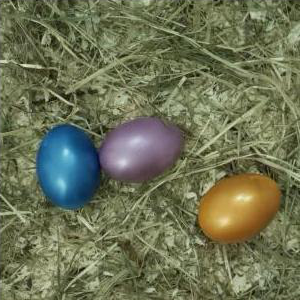egg: (198, 173, 281, 243), (100, 118, 184, 184), (37, 124, 100, 210)
